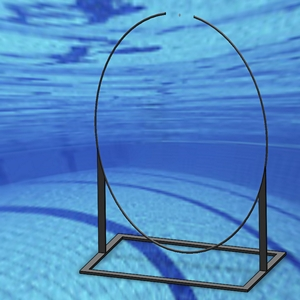circle: (77, 10, 286, 292)
